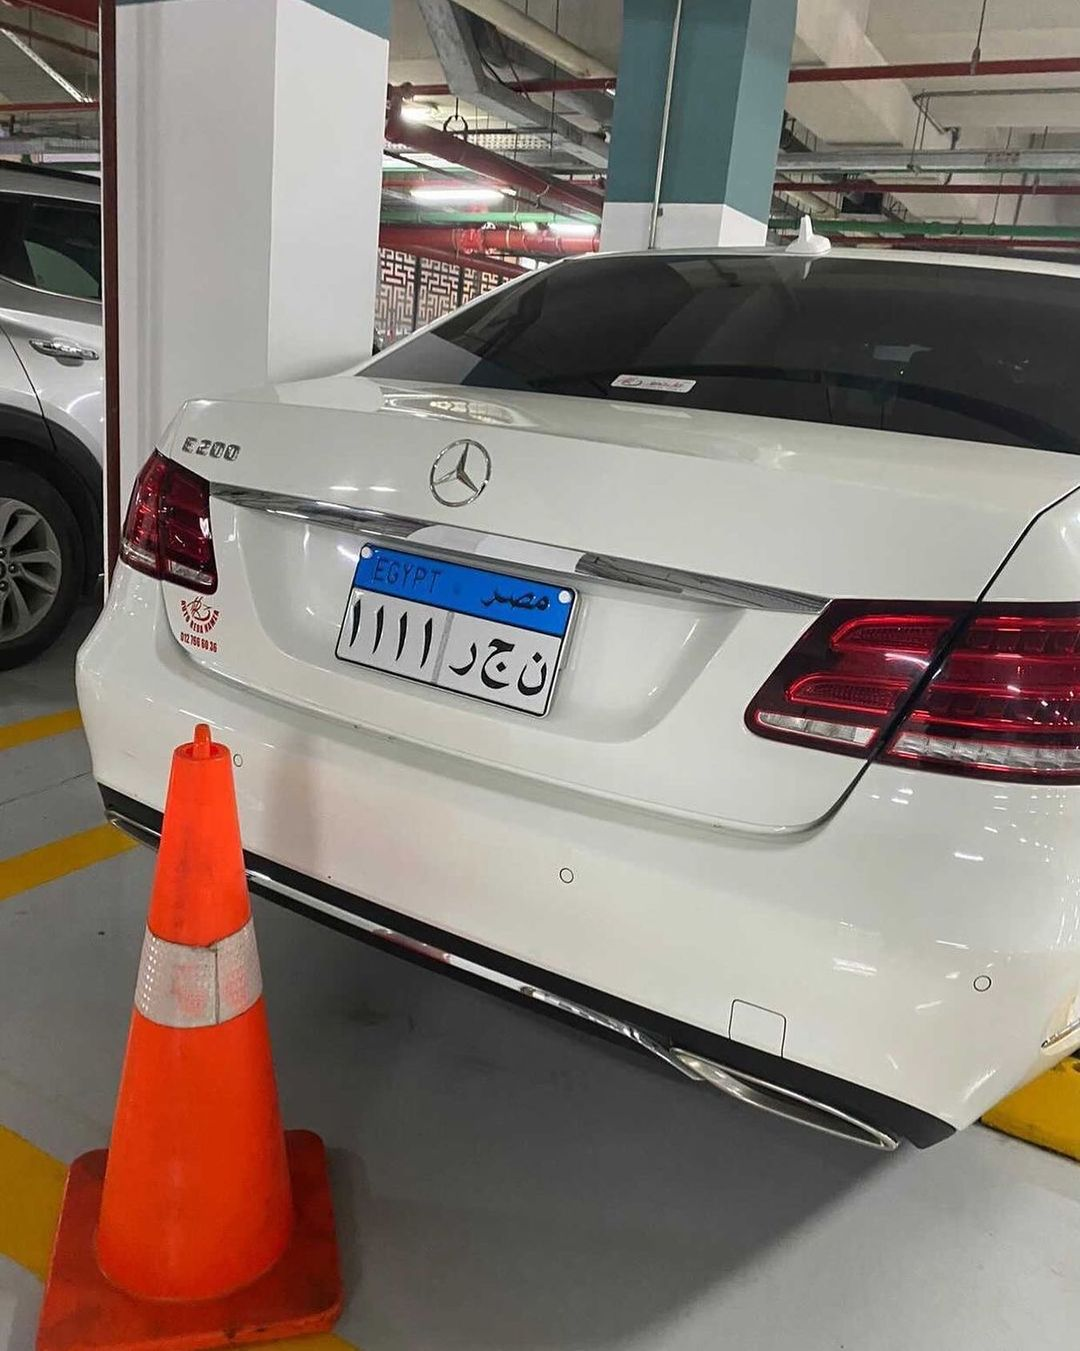carpl: (338, 553, 575, 709)
